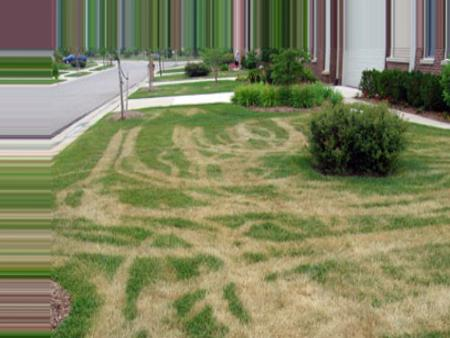patch: (243, 259, 373, 336), (305, 186, 378, 247), (210, 151, 280, 190), (72, 183, 112, 228)
